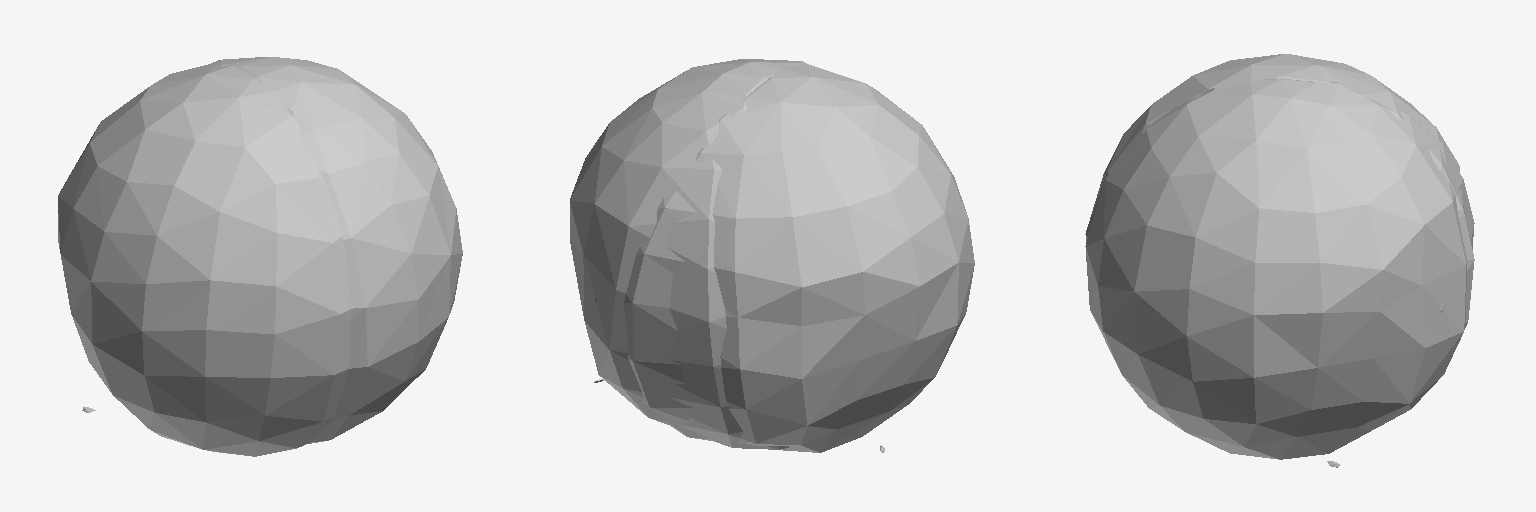
The model's file is endereyes.obj.
The picture shows the model from 3 angles: view 1: azimuth 30°, elevation 25°; view 2: azimuth 150°, elevation 25°; view 3: azimuth 270°, elevation 25°; orthographic projection.
Visible parts, largest first — view 1: Cynder; view 2: Cynder; view 3: Cynder.
Boxes of the visible parts, x1,y1,x2,y2 form: Cynder: [58, 57, 462, 456]; Cynder: [570, 59, 974, 452]; Cynder: [1085, 54, 1474, 467].
Size of the model in its own units: 0.861 by 0.824 by 0.8157.